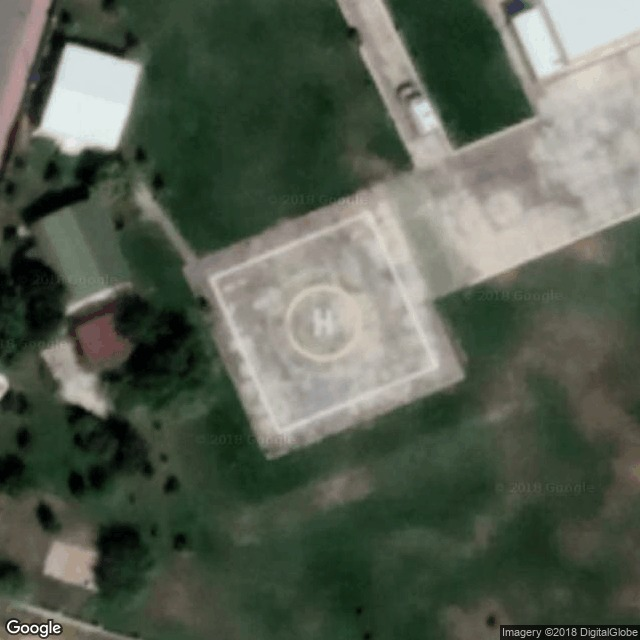heliport: (307, 301, 337, 343)
